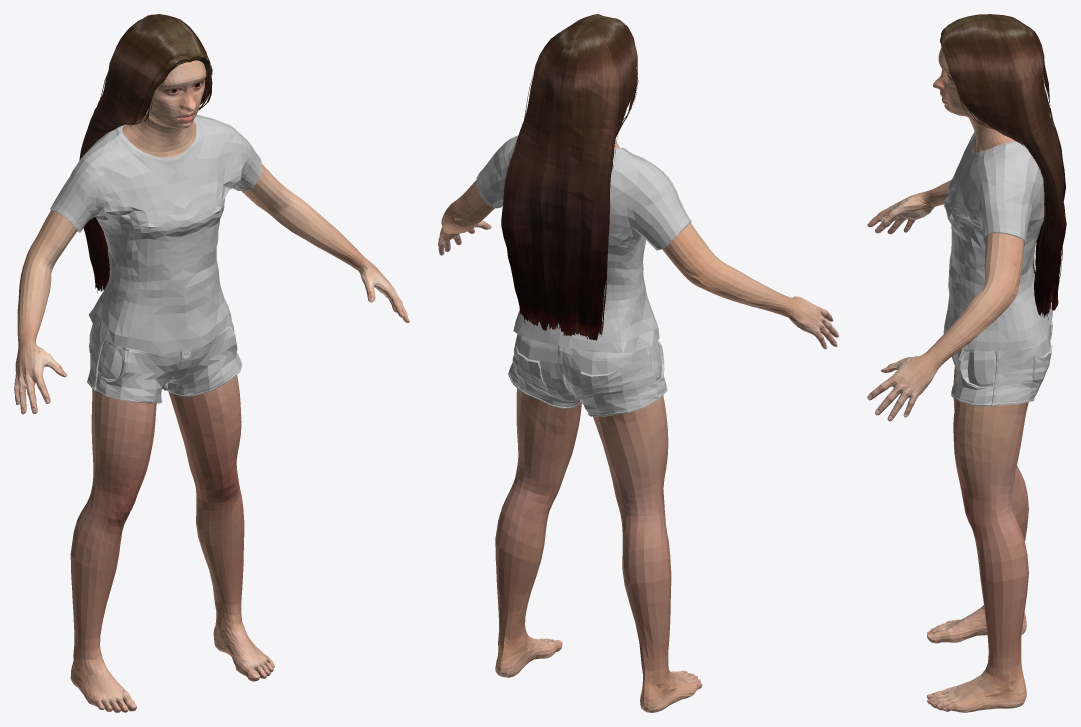
The model's file is human_05_standing.obj.
3 views of the same model, side by side, from view 1: azimuth 30°, elevation 25°; view 2: azimuth 150°, elevation 25°; view 3: azimuth 270°, elevation 25° (orthographic).
Parts seen in each view (by area): view 1: base.obj, female_casualsuit02.obj, long01.obj; view 2: base.obj, long01.obj, female_casualsuit02.obj; view 3: base.obj, female_casualsuit02.obj, long01.obj.
Part boxes in pixels (<box>): base.obj: <box>14,60,409,712</box>; female_casualsuit02.obj: <box>50,114,261,403</box>; long01.obj: <box>79,14,212,293</box>; base.obj: <box>438,139,838,712</box>; long01.obj: <box>501,14,638,340</box>; female_casualsuit02.obj: <box>476,135,691,416</box>; base.obj: <box>867,47,1028,712</box>; female_casualsuit02.obj: <box>943,132,1052,406</box>; long01.obj: <box>940,14,1066,319</box>.
Size of the model in its own units: 8.66 by 14.03 by 3.87.
